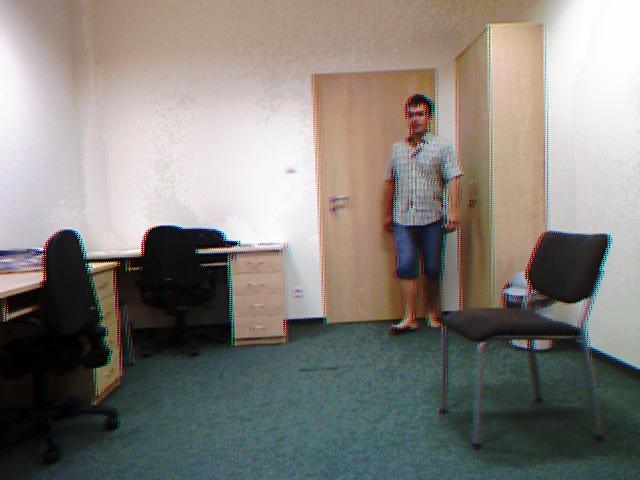standing: (369, 84, 466, 342)
